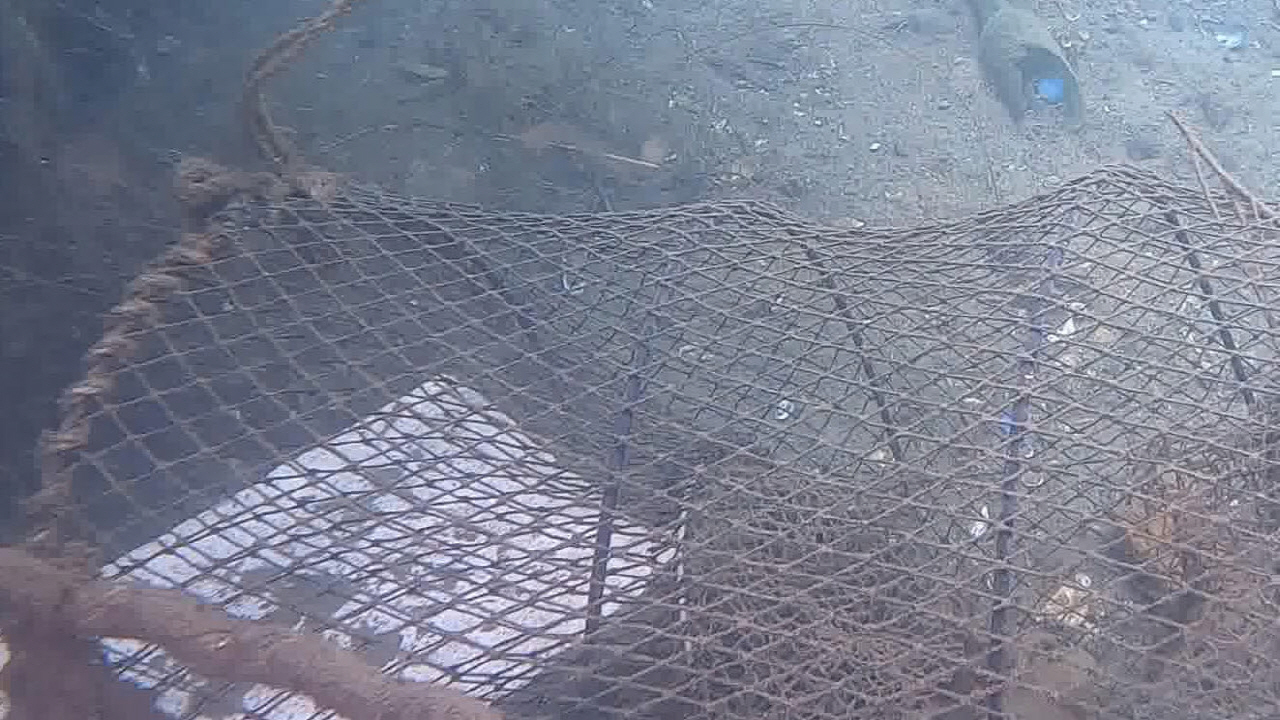bundle of ropes: (231, 0, 360, 173)
spring fish trap: (1, 161, 1280, 716)
